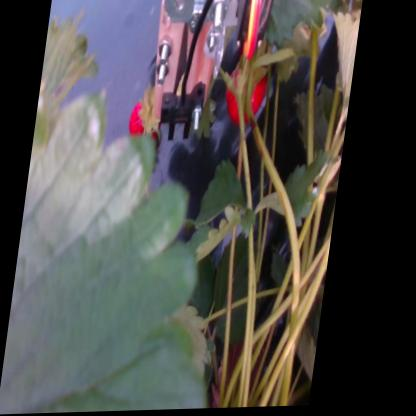ripe: (224, 51, 275, 130), (129, 99, 166, 151)
